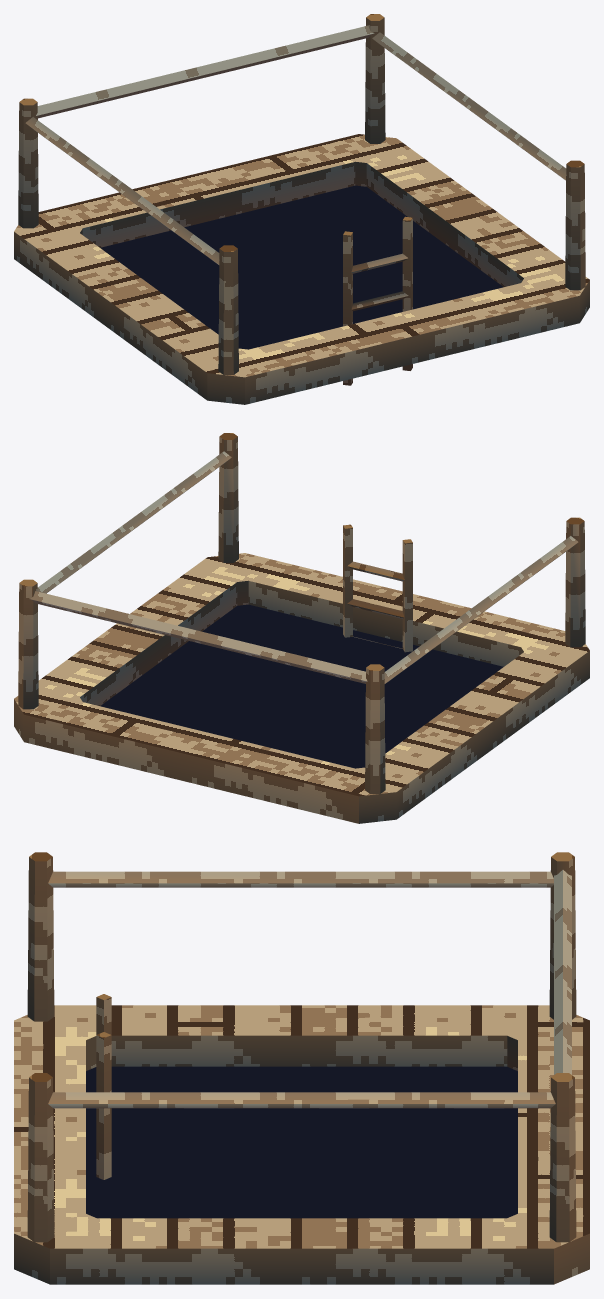
The model's file is wmine.shaft.glb.
3 renders of one model, top to bottom at view 1: azimuth 30°, elevation 25°; view 2: azimuth 150°, elevation 25°; view 3: azimuth 270°, elevation 25°, orthographic. The views are drawn at different scales.
Parts seen in each view (by area): view 1: kit_collar, kit_card_hole, kit_posts, kit_rails, kit_ladder; view 2: kit_collar, kit_card_hole, kit_posts, kit_rails, kit_ladder; view 3: kit_collar, kit_card_hole, kit_rails, kit_posts, kit_ladder.
Boxes of the visible parts, x1=… form: kit_collar: x1=14, y1=134, x2=589, y2=404; kit_card_hole: x1=100, y1=185, x2=503, y2=349; kit_posts: x1=18, y1=14, x2=585, y2=374; kit_rails: x1=25, y1=25, x2=566, y2=264; kit_ladder: x1=343, y1=216, x2=412, y2=385; kit_collar: x1=14, y1=553, x2=589, y2=823; kit_card_hole: x1=100, y1=604, x2=503, y2=768; kit_posts: x1=18, y1=433, x2=585, y2=793; kit_rails: x1=29, y1=451, x2=578, y2=683; kit_ladder: x1=343, y1=524, x2=412, y2=652; kit_collar: x1=14, y1=1005, x2=589, y2=1284; kit_card_hole: x1=86, y1=1066, x2=517, y2=1218; kit_rails: x1=48, y1=870, x2=571, y2=1108; kit_posts: x1=27, y1=852, x2=576, y2=1242; kit_ladder: x1=96, y1=994, x2=111, y2=1179.
Bounding box in the file's own units: 3.2 × 1.5 × 3.2.
Materials: 5 (5 with a texture image).
